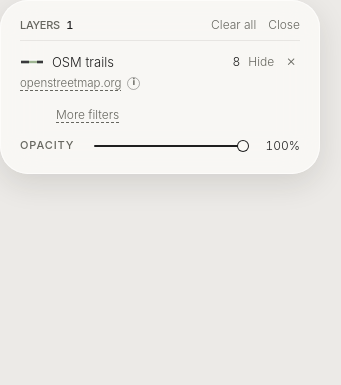
Test: LayerStack filters › opens More filters (no attributes on this layer) with category chips (with counts) and a mini histogram per number, no sliders
Click the button "More filters": {"x": 88, "y": 115} x1=56 y1=107 x2=119 y2=123
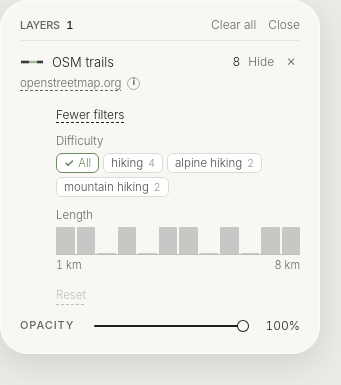
Result: the buttons read "All", "hiking 4", "alpine hiking 2", "mountain hiking 2", in this order at x1=56 y1=153 x2=99 y2=173; x1=103 y1=153 x2=163 y2=173; x1=167 y1=153 x2=262 y2=173; x1=56 y1=177 x2=169 y2=197
